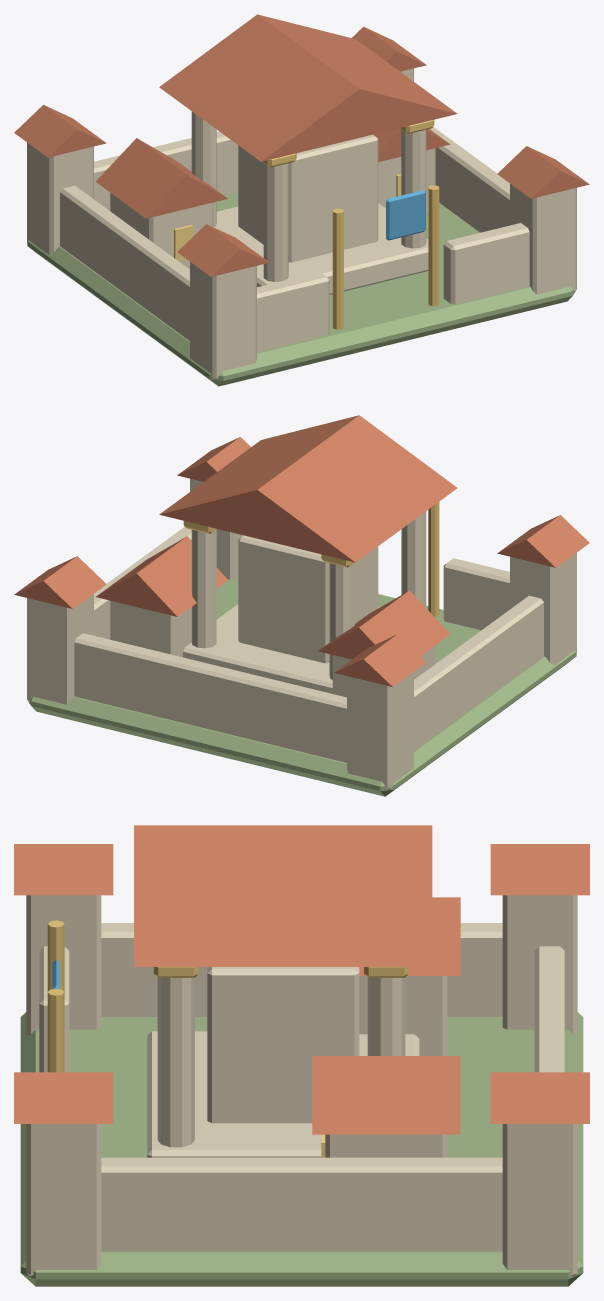
The model's file is CityGreek.fbx.
3 renders of one model, top to bottom at view 1: azimuth 30°, elevation 25°; view 2: azimuth 150°, elevation 25°; view 3: azimuth 270°, elevation 25°, orthographic. The views are drawn at different scales.
Parts seen in each view (by area): view 1: CityGreek; view 2: CityGreek; view 3: CityGreek.
Part boxes in pixels (box(x1,y1,x2,y2)): CityGreek: box(14, 14, 589, 386); CityGreek: box(14, 415, 589, 796); CityGreek: box(14, 825, 589, 1286).
Bounding box in the file's own units: 3.41 × 1.98 × 3.07.
